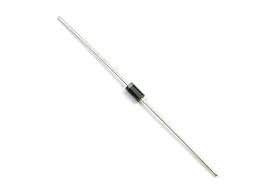diode: (117, 76, 160, 118)
